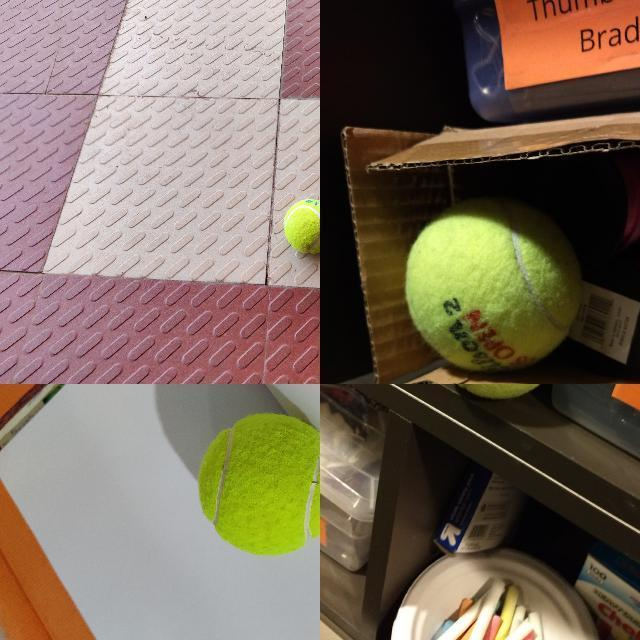tennis-ball: (403, 195, 583, 374), (196, 411, 319, 558), (283, 199, 319, 254)
